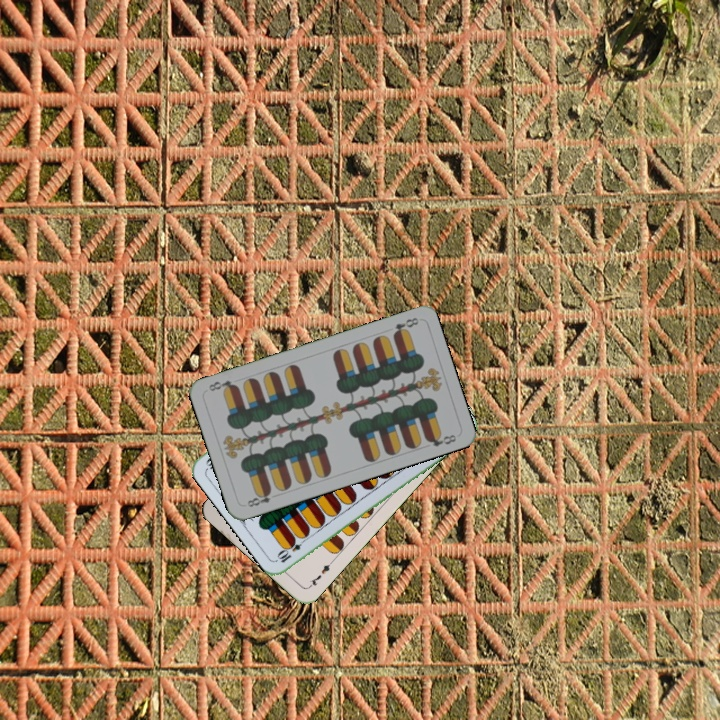E10: (274, 533, 309, 565)
E7: (305, 557, 336, 590)
E8: (243, 486, 281, 510), (389, 313, 421, 339)
